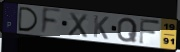D: (18, 6, 40, 33)
F: (138, 17, 162, 46), (39, 7, 62, 36)
K: (92, 14, 110, 41)
Q: (116, 17, 139, 43)
X: (67, 11, 89, 39)
